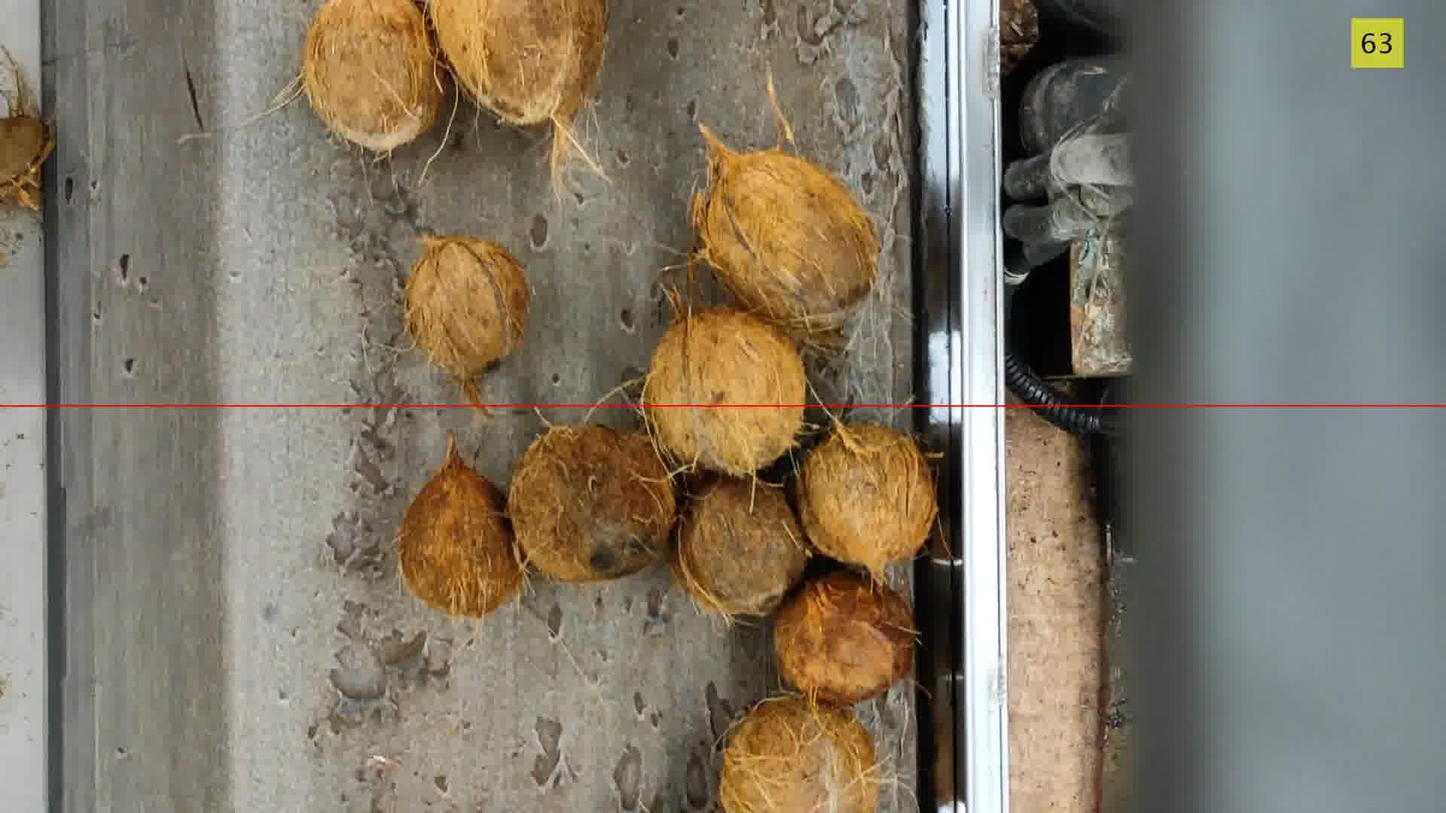Coconut: (691, 126, 880, 336), (429, 0, 609, 184), (642, 308, 807, 476), (508, 425, 676, 581), (398, 440, 523, 617), (301, 0, 444, 153), (797, 422, 938, 577), (670, 477, 809, 617), (773, 570, 917, 704), (401, 233, 533, 379), (718, 697, 881, 812), (0, 46, 54, 209), (0, 115, 53, 209)
